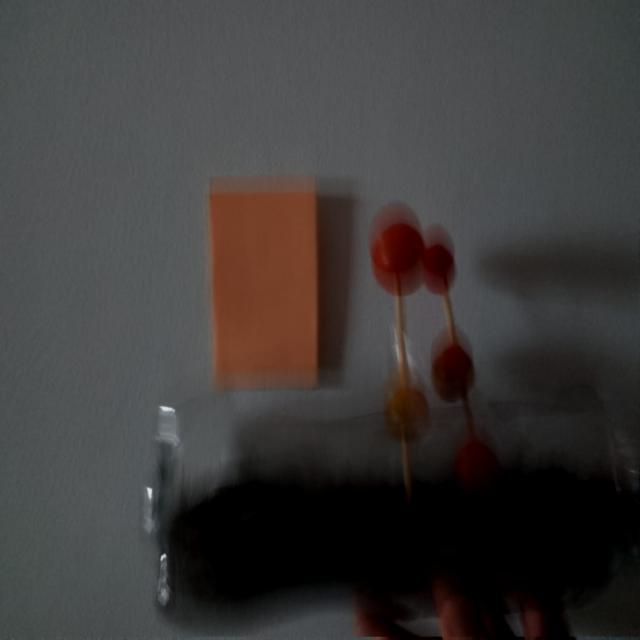card: (209, 178, 319, 388)
fruit_maturation: (385, 386, 428, 441)
fully_grown: (370, 202, 455, 297)
